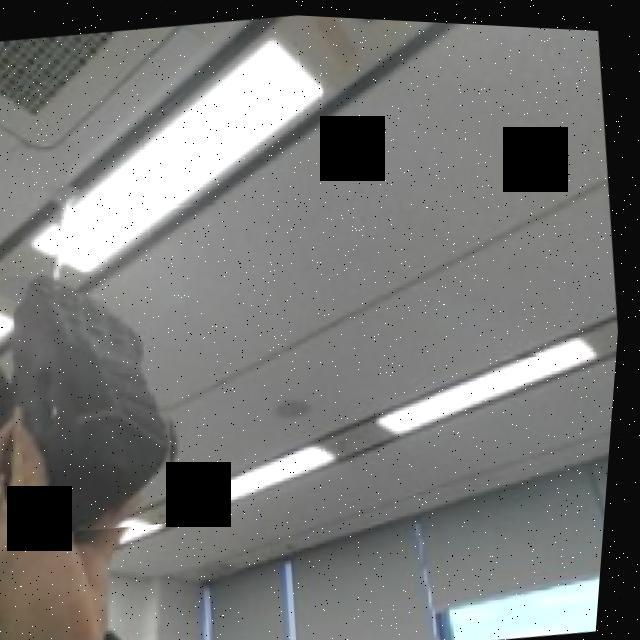shoe: (0, 250, 207, 541)
